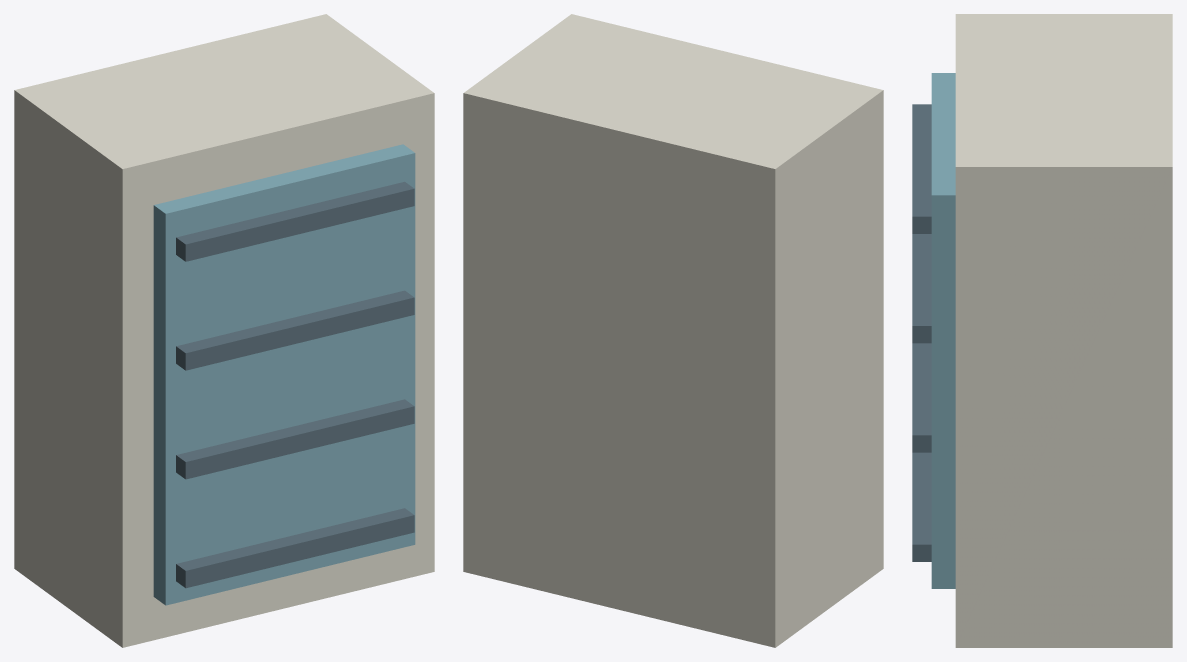
The model's file is voxel-city-districts-fridge-cabinet-56fbd21c__24881.glb.
The picture shows the model from 3 angles, left to right: view 1: azimuth 30°, elevation 25°; view 2: azimuth 150°, elevation 25°; view 3: azimuth 270°, elevation 25°; orthographic projection.
Visible parts, largest first — view 1: fridge-cabinet-concrete, fridge-cabinet-glass, fridge-cabinet-dark; view 2: fridge-cabinet-concrete; view 3: fridge-cabinet-concrete, fridge-cabinet-glass, fridge-cabinet-dark.
Boxes of the visible parts, bbox=[...] form: fridge-cabinet-concrete: bbox=[14, 14, 434, 647]; fridge-cabinet-glass: bbox=[153, 144, 415, 605]; fridge-cabinet-dark: bbox=[176, 181, 414, 588]; fridge-cabinet-concrete: bbox=[463, 14, 883, 647]; fridge-cabinet-concrete: bbox=[955, 14, 1172, 647]; fridge-cabinet-glass: bbox=[931, 73, 955, 588]; fridge-cabinet-dark: bbox=[912, 104, 931, 561].
Bounding box in the file's own units: 1.5 × 2.2 × 1.08.
